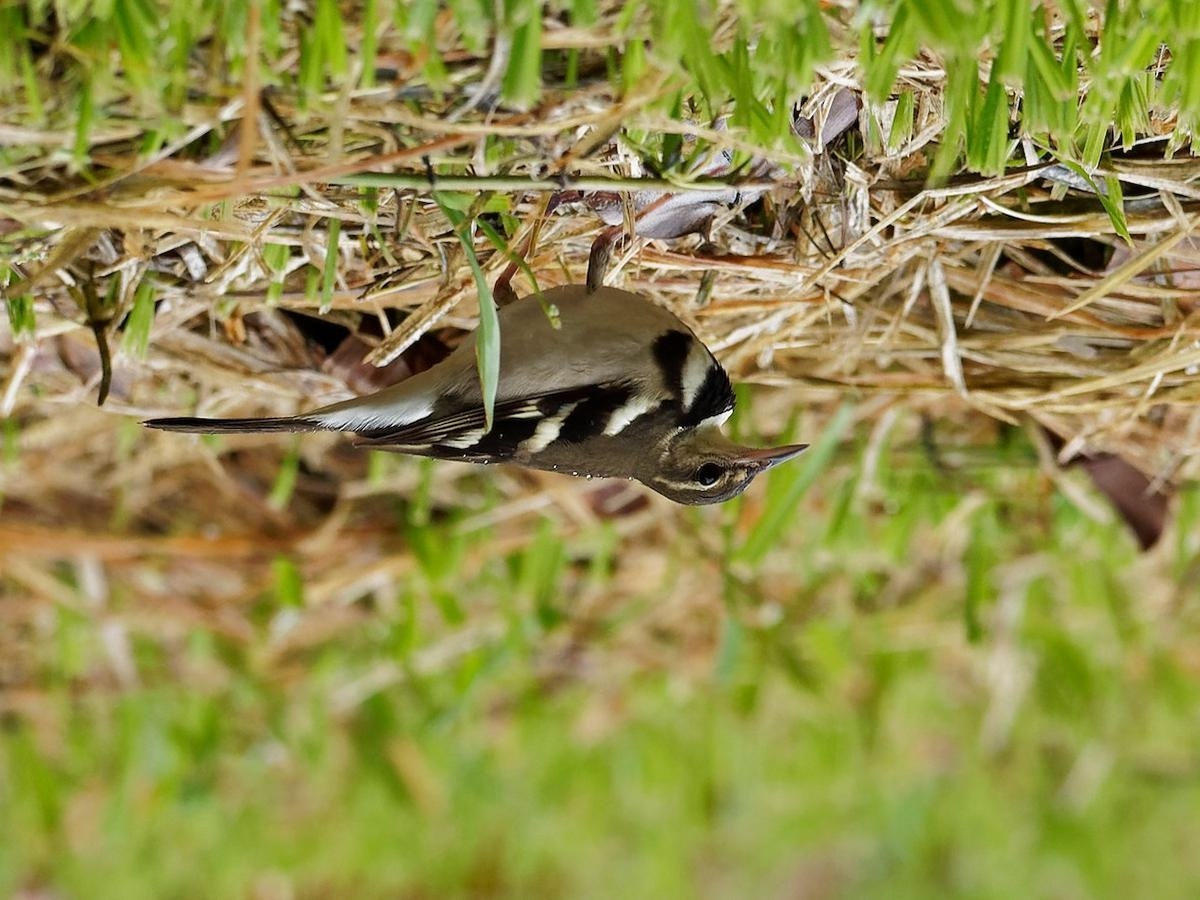wagtail: (204, 237, 811, 523)
